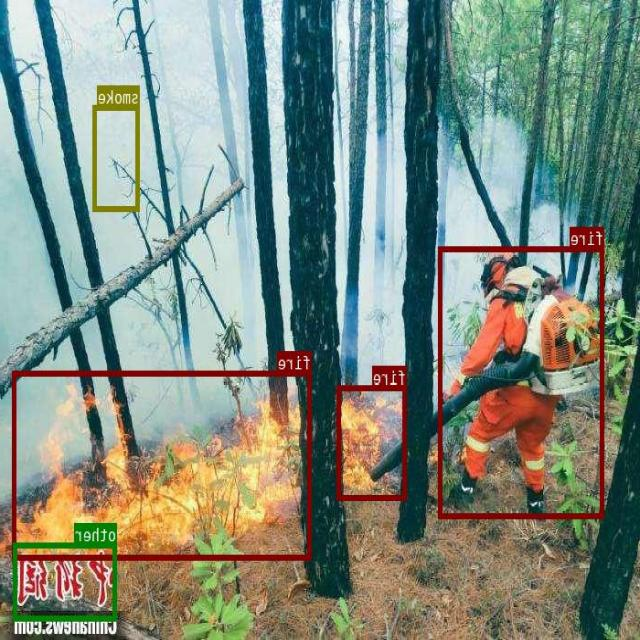fire: (14, 370, 312, 558), (439, 245, 605, 518), (338, 384, 408, 499)
other: (14, 542, 118, 620)
smoke: (94, 104, 140, 210)
